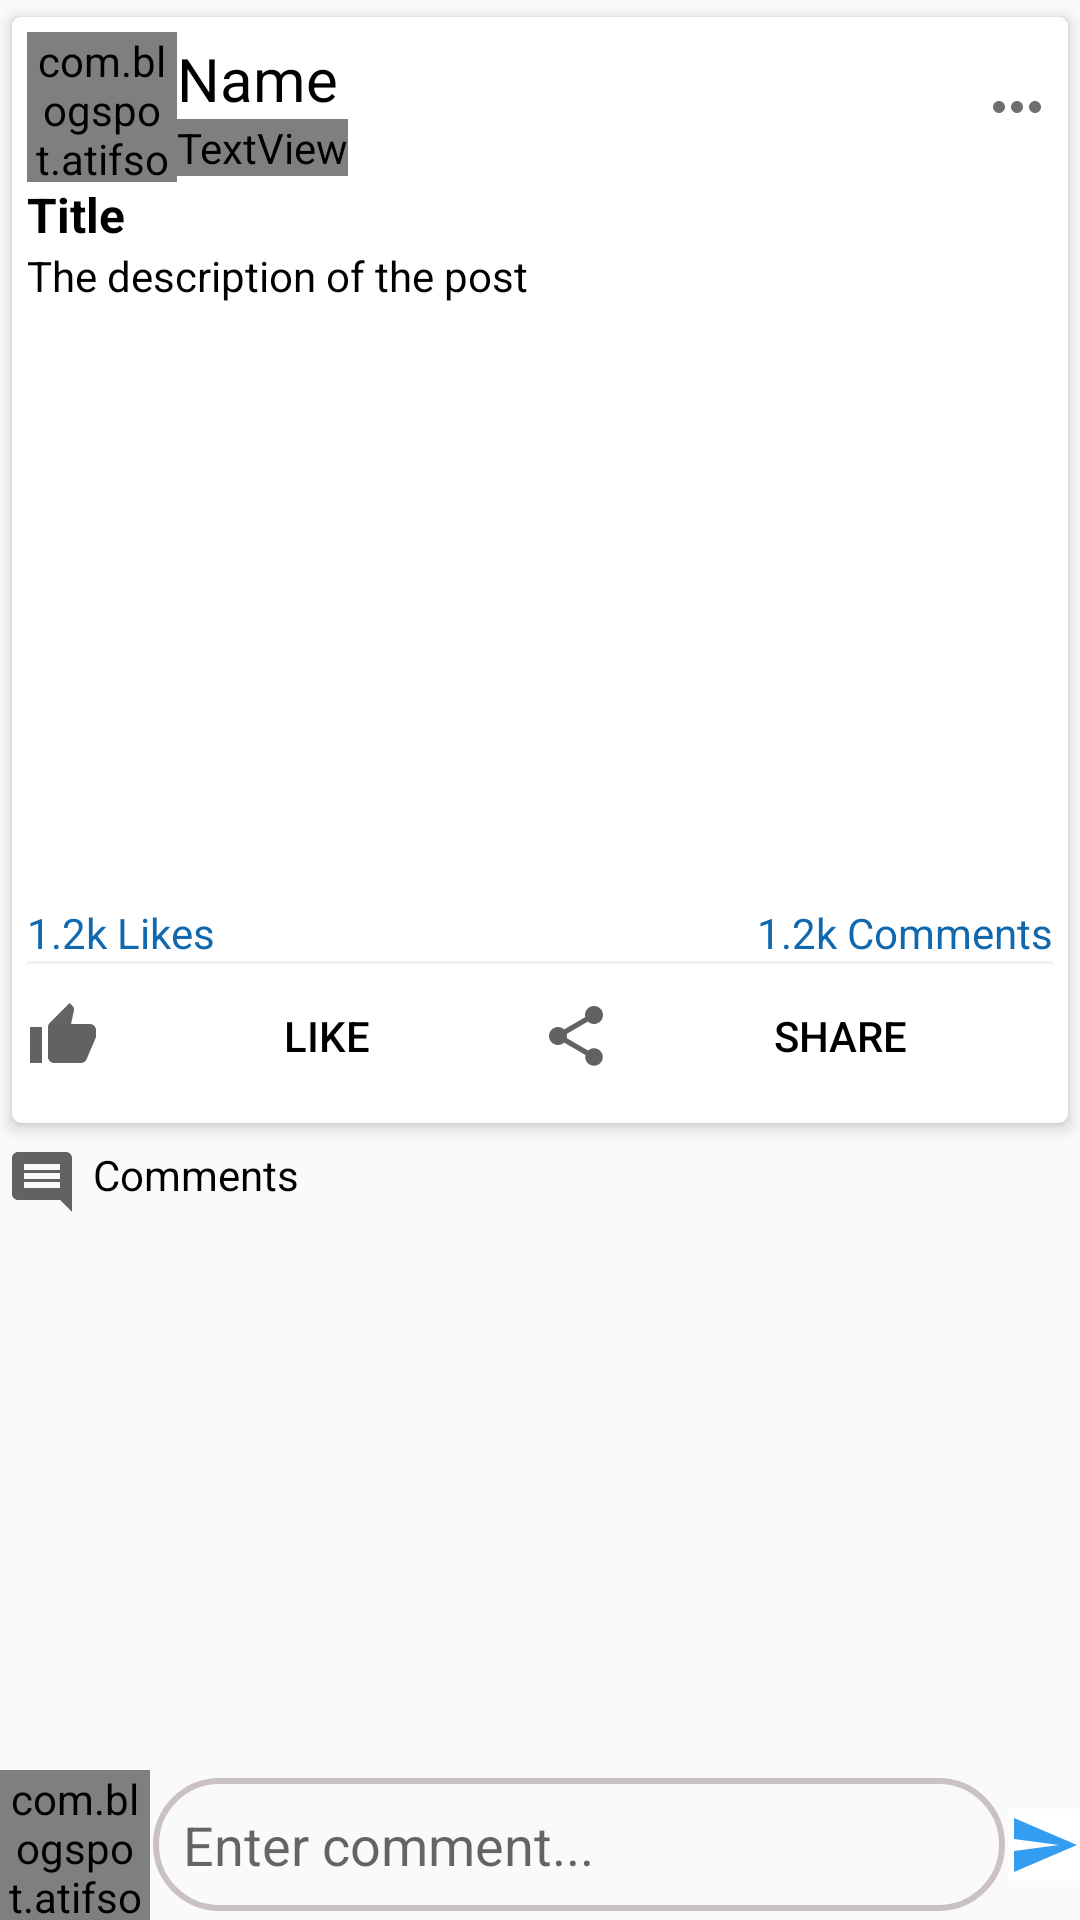

Named icons in this screenshot (1080 x 1920) and their bounding boxes, BBox(x1, y1, x2, y2):
more horiz: BBox(993, 101, 1041, 113)
send: BBox(1014, 1818, 1077, 1872)
